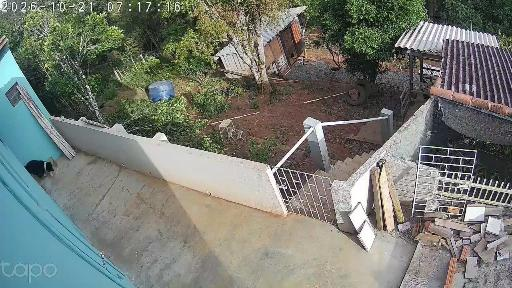cachorro: (23, 160, 59, 181)
frango: (430, 72, 434, 82)
galinha: (98, 102, 107, 109)
